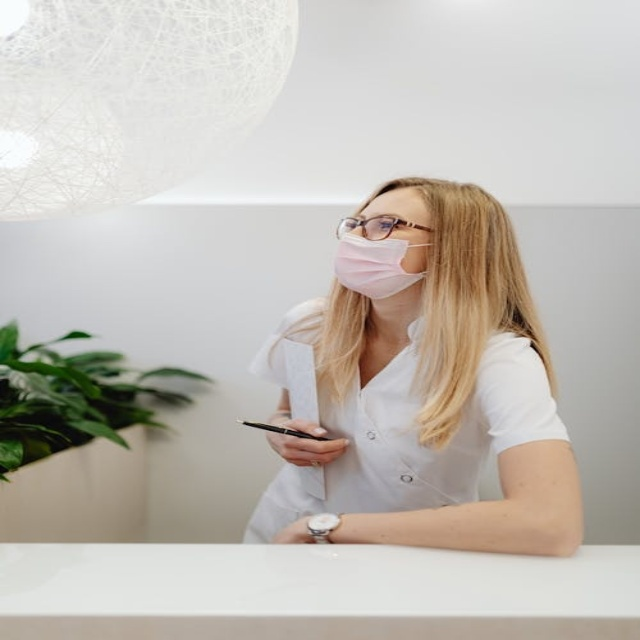Gafas: (337, 215, 435, 241)
Mascara: (332, 231, 431, 299)
Sin_guantes: (263, 413, 348, 466), (271, 513, 343, 545)
